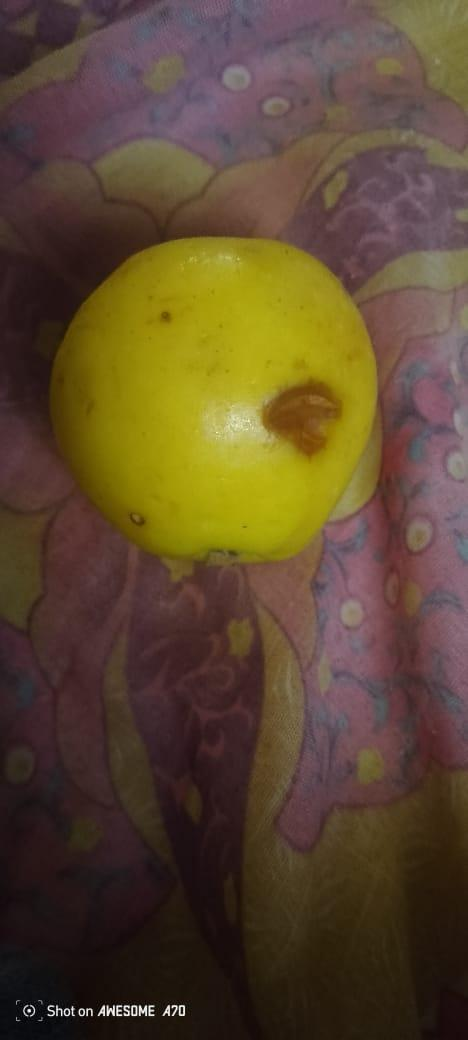non-mango: (57, 234, 373, 565)
